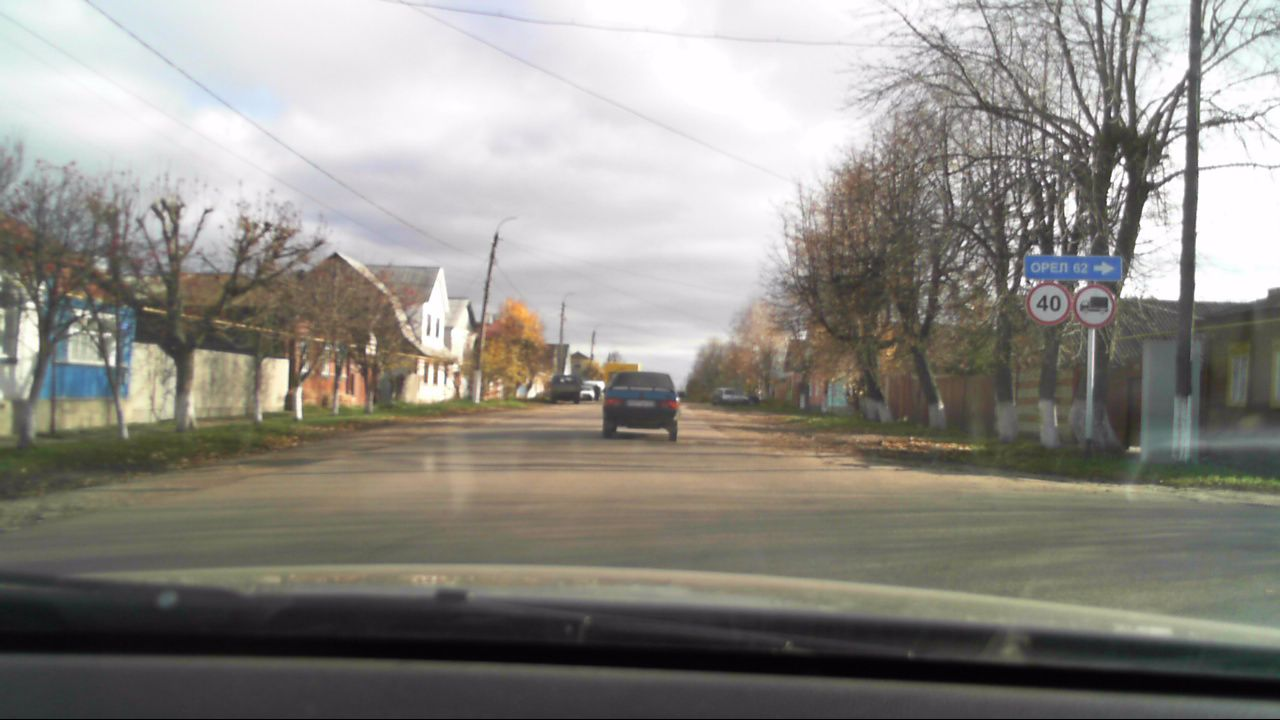speed_warning_40: (1026, 284, 1071, 325)
